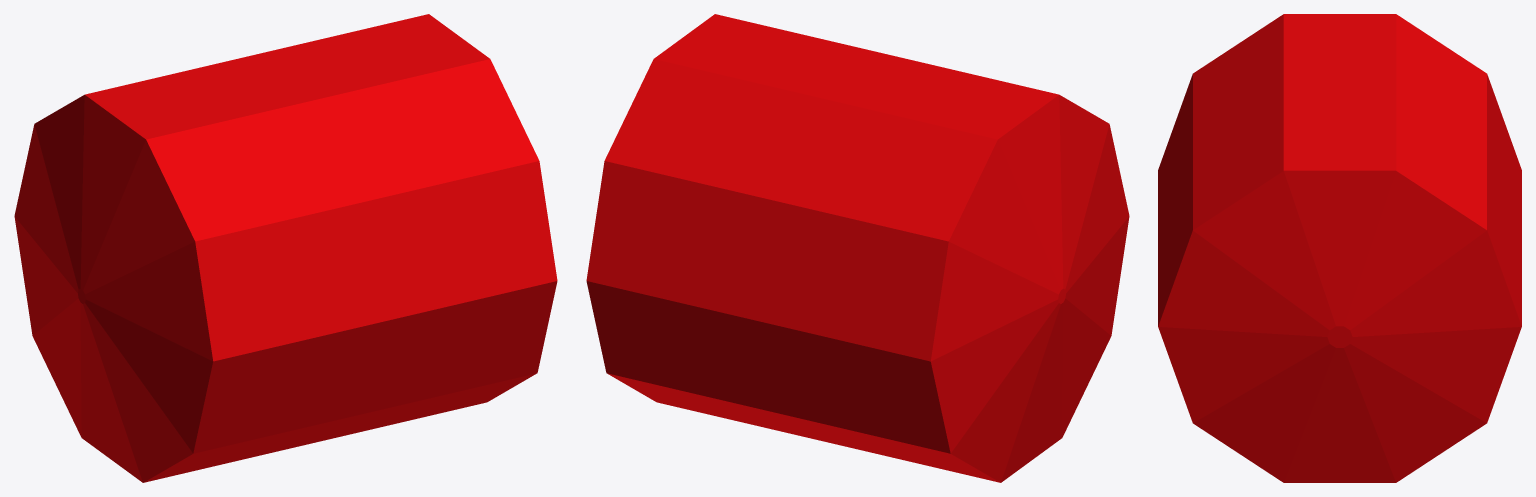
Rendered from telo_zme.fbx.
The picture shows the model from 3 angles, left to right: view 1: azimuth 30°, elevation 25°; view 2: azimuth 150°, elevation 25°; view 3: azimuth 270°, elevation 25°; orthographic projection. The views are drawn at different scales.
Parts seen in each view (by area): view 1: Цилиндр; view 2: Цилиндр; view 3: Цилиндр.
Boxes of the visible parts, bbox=[...] form: Цилиндр: bbox=[14, 14, 557, 482]; Цилиндр: bbox=[586, 14, 1129, 482]; Цилиндр: bbox=[1158, 14, 1521, 482].
Bounding box in the file's own units: 232 × 192 × 200.
